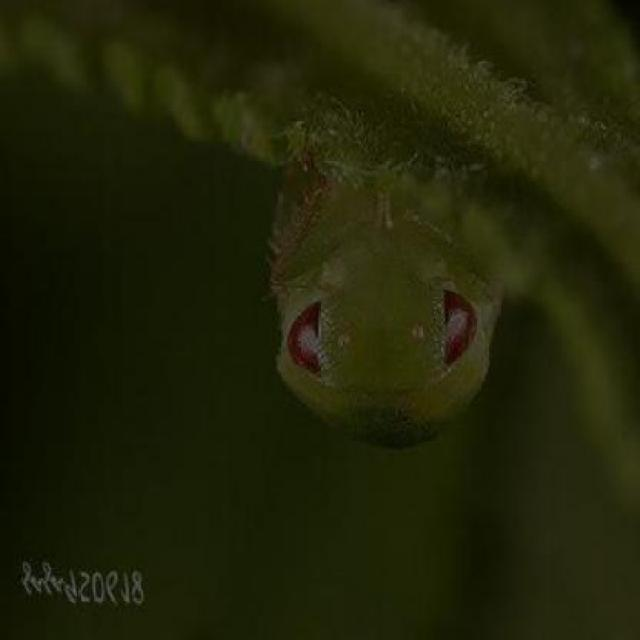green-leafhopper: (265, 153, 512, 450)
